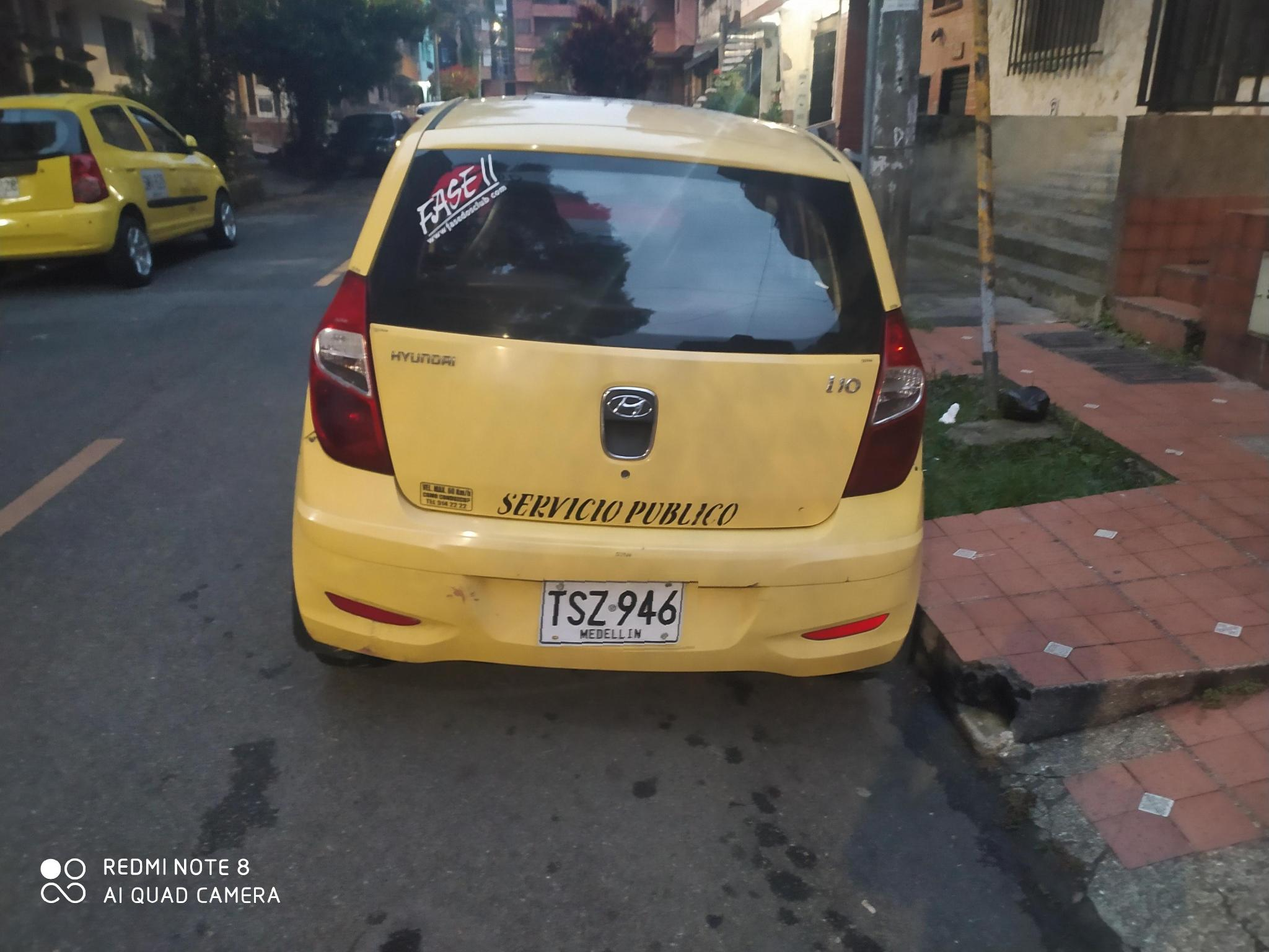placa: (533, 575, 699, 654)
